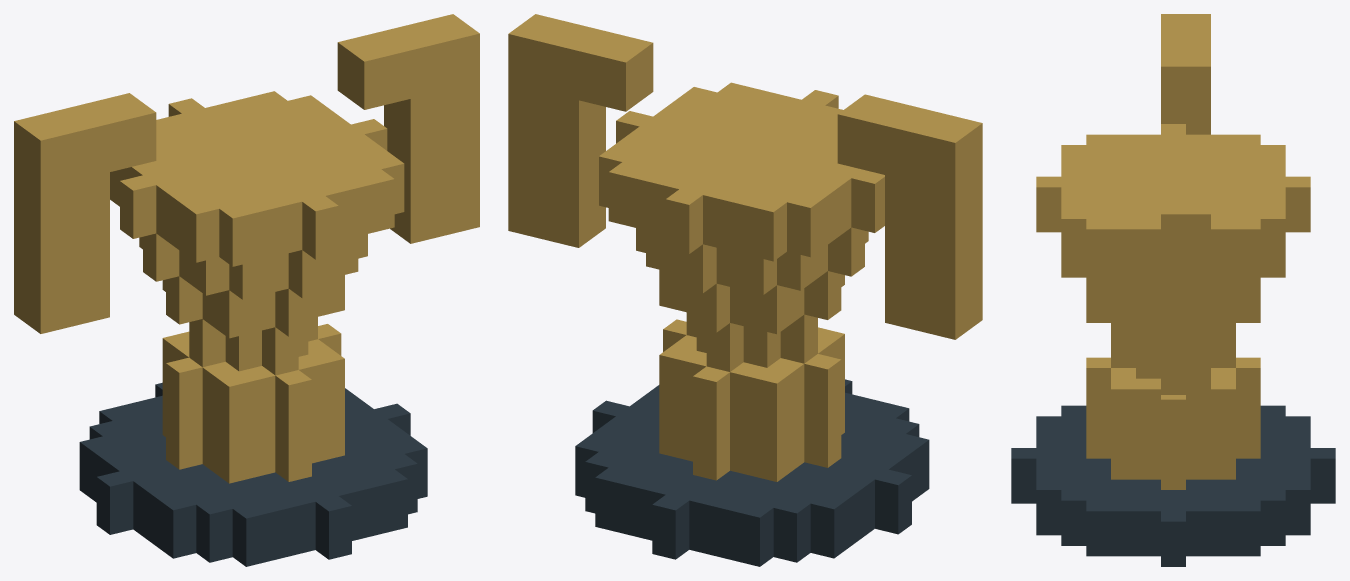
The model's file is crypto-20.glb.
3 renders of one model, left to right at view 1: azimuth 30°, elevation 25°; view 2: azimuth 150°, elevation 25°; view 3: azimuth 270°, elevation 25°, orthographic. The views are drawn at different scales.
Parts seen in each view (by area): view 1: Genesis trophy; view 2: Genesis trophy; view 3: Genesis trophy.
Part boxes in pixels (box(x1,y1,x2,y2)): Genesis trophy: box(14, 14, 479, 566); Genesis trophy: box(508, 14, 982, 566); Genesis trophy: box(1011, 14, 1335, 566).
Size of the model in its own units: 1.52 by 1.36 by 1.04.
